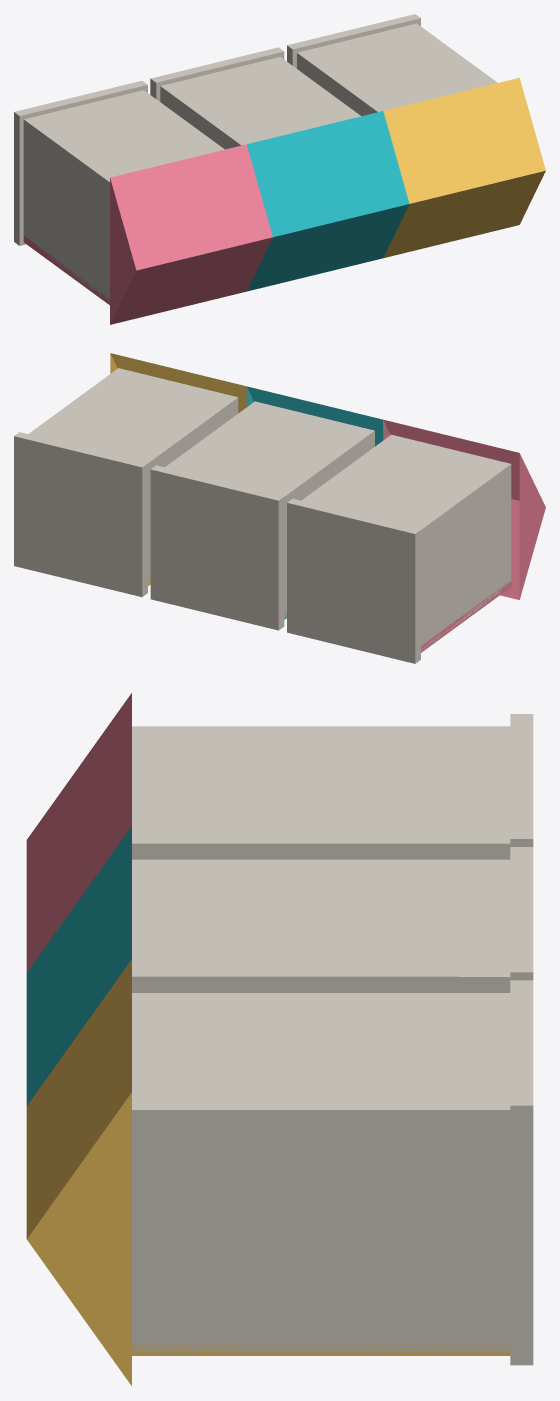
Rendered from cabines.glb.
3 views of the same model, one above another, from view 1: azimuth 30°, elevation 25°; view 2: azimuth 150°, elevation 25°; view 3: azimuth 270°, elevation 25° (orthographic). The views are drawn at different scales.
Parts seen in each view (by area): view 1: toit, toit.001, toit.002, cote, dos.001, dos, dos.002, socle, cote.004, socle.001, socle.002, cote.002 (+4 smaller); view 2: socle.001, socle, socle.002, cote, dos.001, dos, dos.002, toit, cote.004, toit.001, toit.002, cote.002 (+3 smaller); view 3: cote.005, dos.002, dos, dos.001, toit.002, toit, toit.001, socle.002, cote.003, cote.001, planche.020, socle.001 (+4 smaller).
Boxes of the visible parts, x1,y1,x2,y2 form: toit: (110, 144, 272, 324); toit.001: (247, 111, 409, 291); toit.002: (383, 77, 545, 258); cote: (23, 118, 109, 302); dos.001: (160, 57, 359, 146); dos: (23, 91, 223, 186); dos.002: (299, 24, 495, 111); socle: (14, 80, 147, 245); cote.004: (297, 52, 382, 116); socle.001: (150, 47, 284, 101); socle.002: (287, 14, 420, 68); cote.002: (160, 85, 245, 149); socle.001: (150, 465, 284, 630); socle: (287, 498, 420, 663); socle.002: (14, 432, 147, 596); cote: (418, 463, 511, 650); dos.001: (167, 401, 374, 501); dos: (303, 434, 510, 534); dos.002: (29, 368, 236, 462); toit: (383, 419, 545, 599); cote.004: (144, 396, 238, 584); toit.001: (246, 386, 389, 446); toit.002: (110, 353, 252, 413); cote.002: (280, 430, 374, 617); cote.005: (132, 1105, 510, 1352); dos.002: (132, 993, 510, 1120); dos: (132, 726, 510, 853); dos.001: (132, 859, 510, 987); toit.002: (26, 959, 131, 1385); toit: (26, 693, 131, 972); toit.001: (26, 826, 131, 1105); socle.002: (510, 980, 533, 1365); cote.003: (132, 972, 510, 992); cote.001: (132, 838, 510, 859); planche.020: (132, 1342, 510, 1355); socle.001: (510, 847, 533, 980).
Size of the model in its own units: 4.95 by 1.7 by 2.65.
